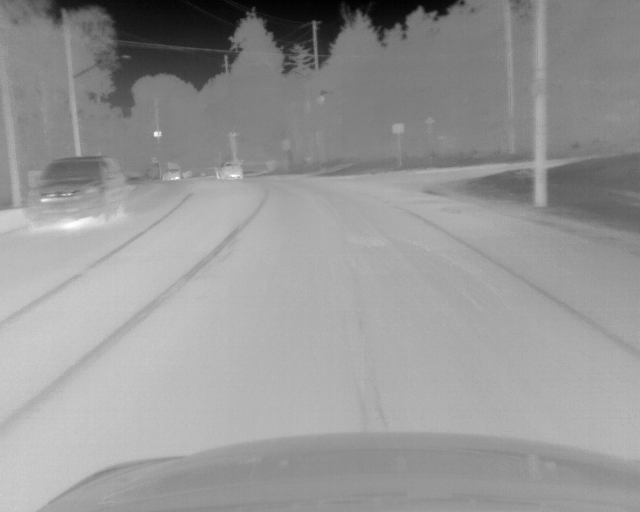car: (24, 156, 132, 222), (216, 161, 243, 181), (162, 167, 180, 181)
